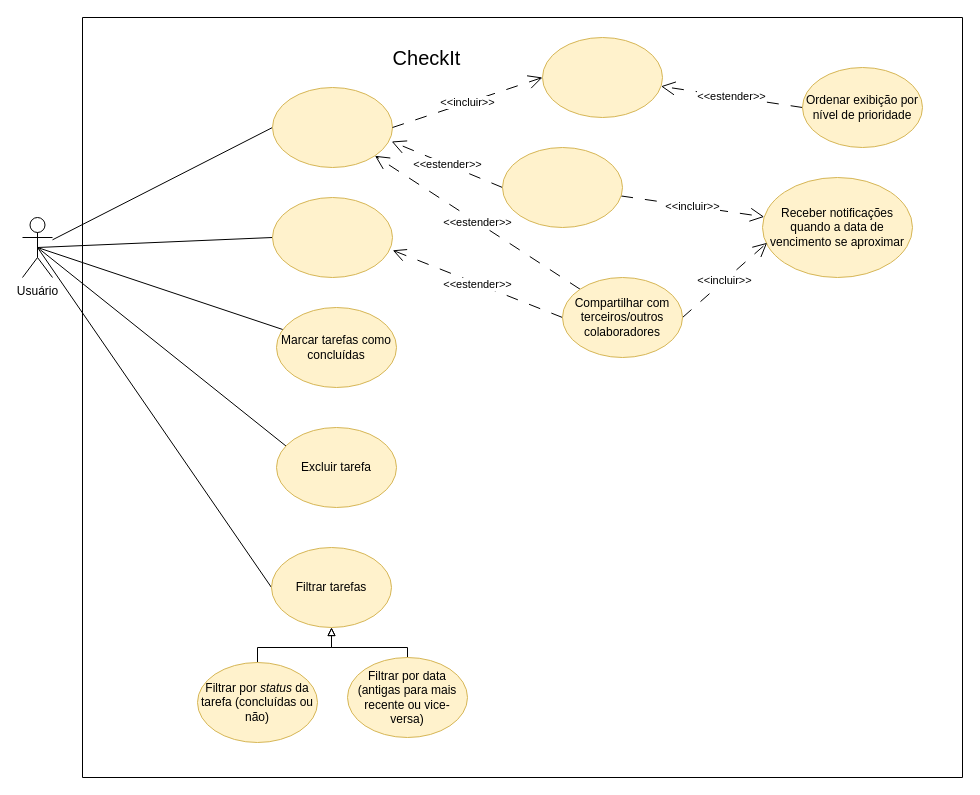
The diagram is 980 pixels wide and 795 high, and some of its shapes have lost their labels. Each missing label, with the box of its shape:
Adicionar tarefas: (272, 86, 392, 168)
Classificar nível de prioridade: (542, 36, 662, 118)
Editar tarefas: (272, 196, 392, 278)
Incluir data de venciomento: (502, 146, 622, 228)
